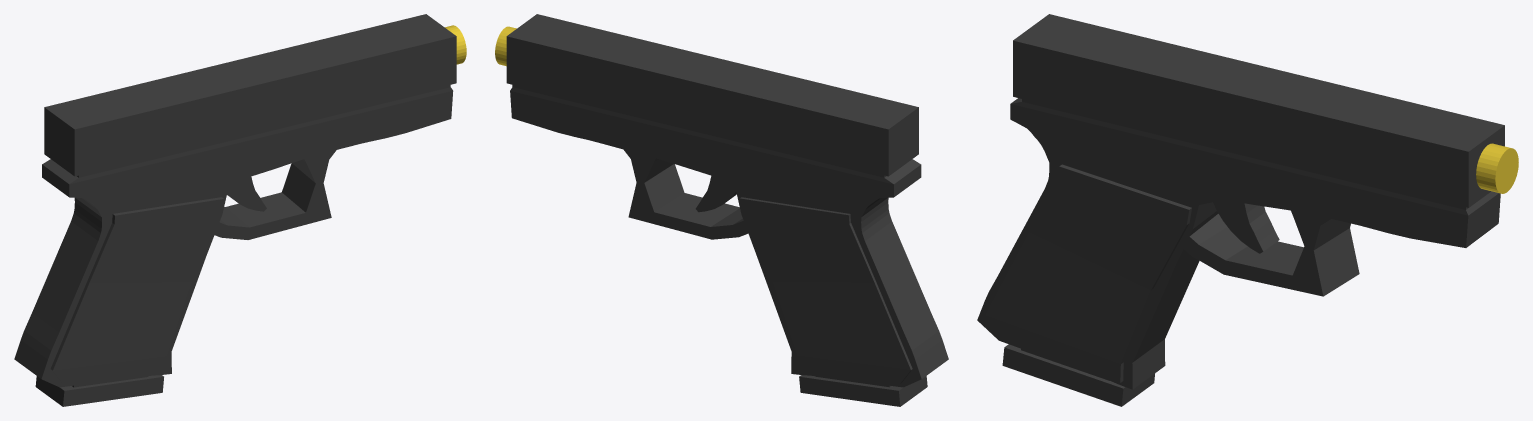
Rendered from newpistol.fbx.
3 views of the same model, side by side, from view 1: azimuth 30°, elevation 25°; view 2: azimuth 150°, elevation 25°; view 3: azimuth 330°, elevation 25° (orthographic). The views are drawn at different scales.
Parts seen in each view (by area): view 1: Cube.006, Cube.001, Cube.005, Cube.004, Cube.002, Cube.003; view 2: Cube.006, Cube.001, Cube.005, Cube.004, Cube.002, Cube.003, Cylinder; view 3: Cube.006, Cube.001, Cube.005, Cube.004, Cube.002, Cube.003, Cylinder.
Boxes of the visible parts, x1=… form: Cube.006: x1=44, y1=14, x2=456, y2=176; Cube.001: x1=14, y1=85, x2=453, y2=387; Cube.005: x1=50, y1=197, x2=223, y2=384; Cube.004: x1=213, y1=139, x2=344, y2=239; Cube.002: x1=35, y1=375, x2=163, y2=406; Cube.003: x1=227, y1=176, x2=266, y2=211; Cube.006: x1=506, y1=14, x2=918, y2=176; Cube.001: x1=510, y1=85, x2=948, y2=387; Cube.005: x1=740, y1=197, x2=912, y2=383; Cube.004: x1=624, y1=149, x2=748, y2=239; Cube.002: x1=799, y1=375, x2=927, y2=406; Cube.003: x1=695, y1=175, x2=736, y2=212; Cylinder: x1=495, y1=26, x2=516, y2=66; Cube.006: x1=1013, y1=14, x2=1504, y2=207; Cube.001: x1=977, y1=98, x2=1500, y2=389; Cube.005: x1=985, y1=164, x2=1191, y2=382; Cube.004: x1=1178, y1=198, x2=1359, y2=296; Cube.002: x1=1002, y1=344, x2=1154, y2=406; Cube.003: x1=1213, y1=200, x2=1279, y2=253; Cylinder: x1=1476, y1=143, x2=1518, y2=193.
Bounding box in the file's own units: 454 × 289 × 57.45.
